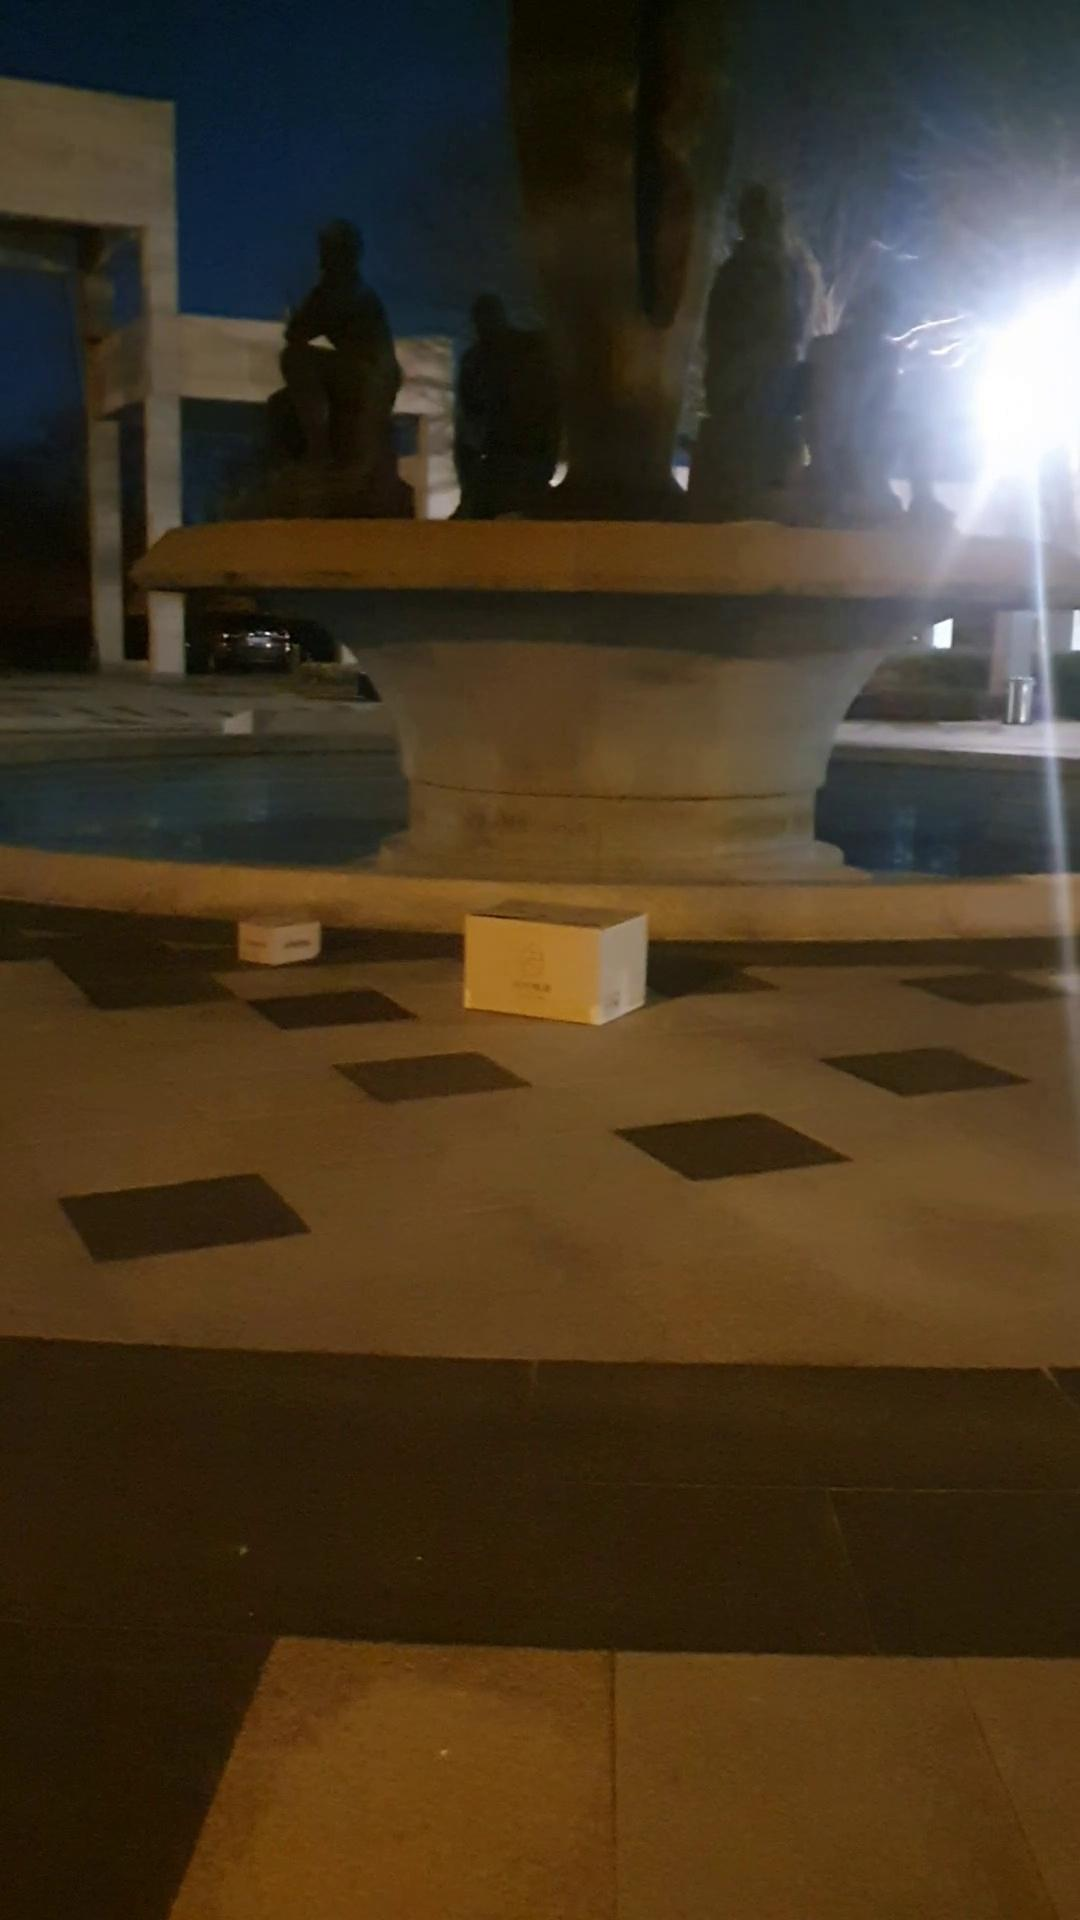Box: (429, 909, 669, 1044), (225, 893, 323, 973)
